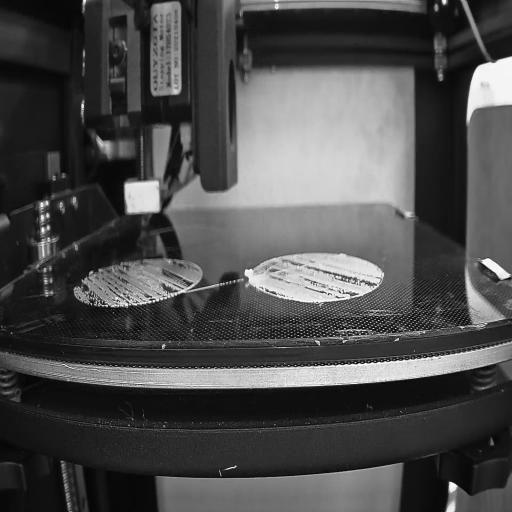under_extrusion: (257, 261, 383, 302), (74, 262, 196, 303)
